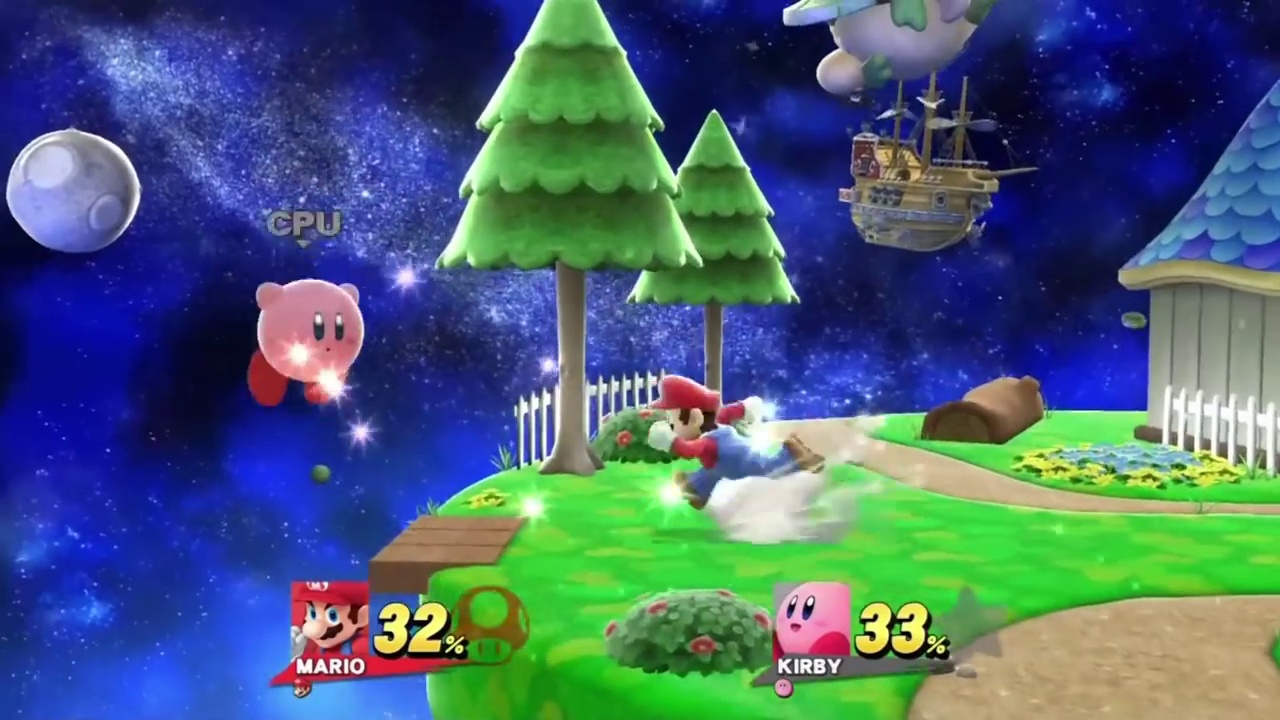Mario: (644, 378, 825, 513)
